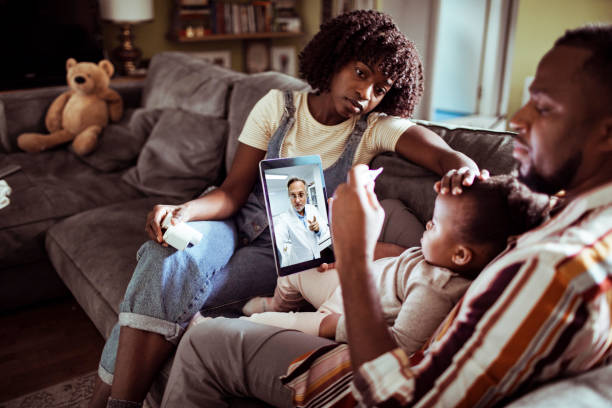without mask: (507, 49, 612, 193), (417, 187, 503, 264), (320, 49, 406, 126), (284, 182, 310, 211)
